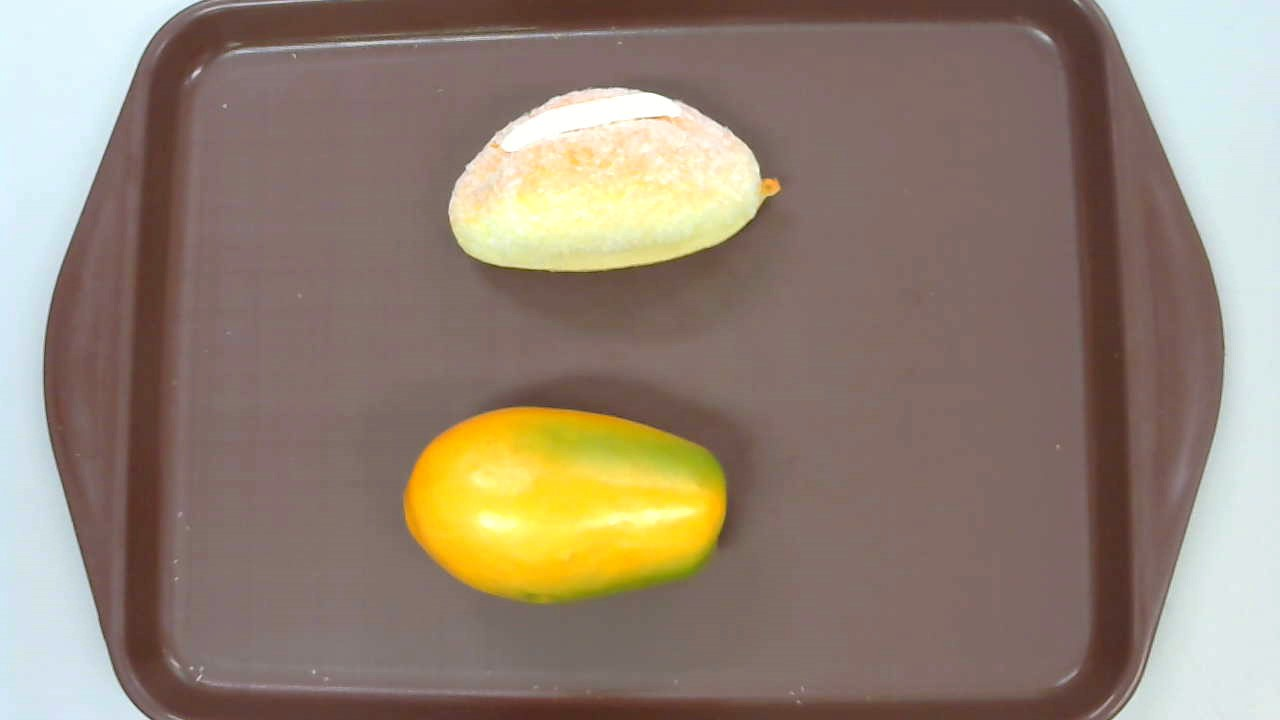coconut: (446, 87, 781, 272)
papya: (401, 405, 728, 605)
